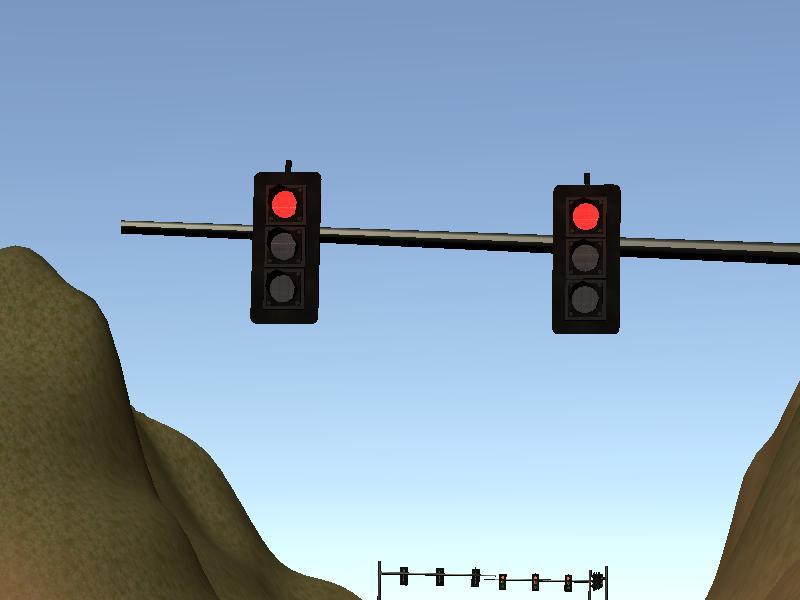Red: (252, 172, 319, 324), (553, 184, 620, 336), (530, 573, 539, 592), (565, 574, 573, 593), (499, 573, 506, 591)
